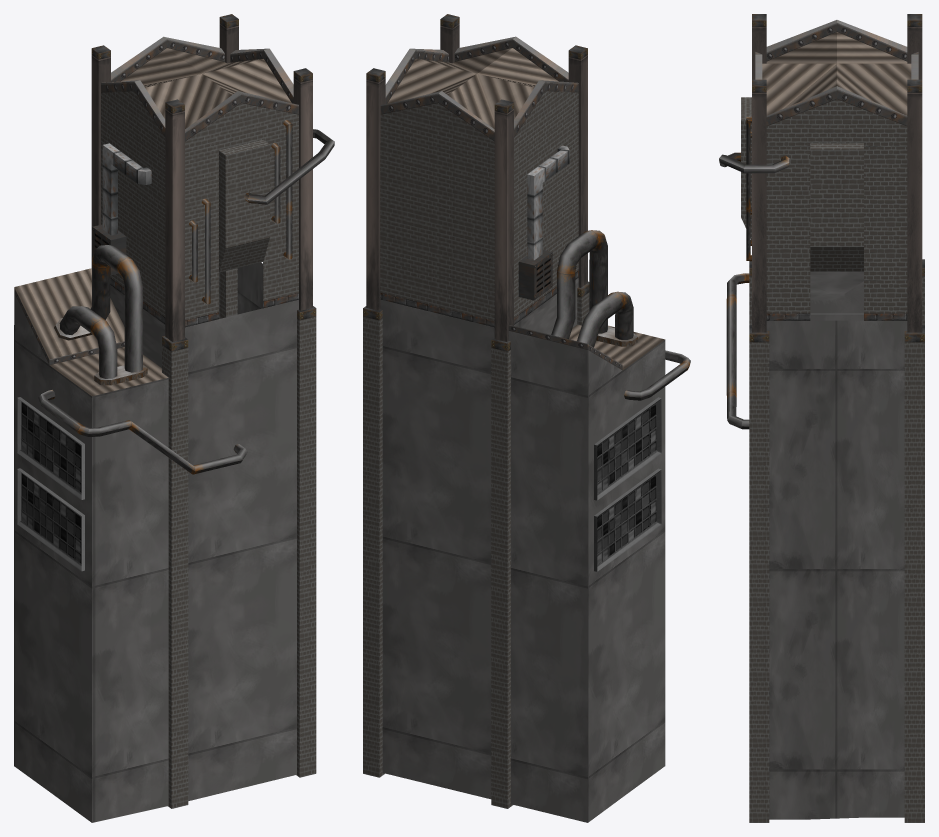
File: factory_shop_building.fbx
The picture shows the model from 3 angles, left to right: view 1: azimuth 30°, elevation 25°; view 2: azimuth 150°, elevation 25°; view 3: azimuth 270°, elevation 25°; orthographic projection. The views are drawn at different scales.
Visible parts, largest first — view 1: FactoryBuilding, Pipes; view 2: FactoryBuilding, Pipes; view 3: FactoryBuilding, Pipes.
Part boxes in pixels (x1,y1,x2,y2): FactoryBuilding: (14,14,316,822); Pipes: (38,120,334,474); FactoryBuilding: (363,14,665,822); Pipes: (551,230,690,400); FactoryBuilding: (741,14,924,822); Pipes: (719,116,789,429).
Size of the model in its own units: 2645 by 6893 by 1747.
